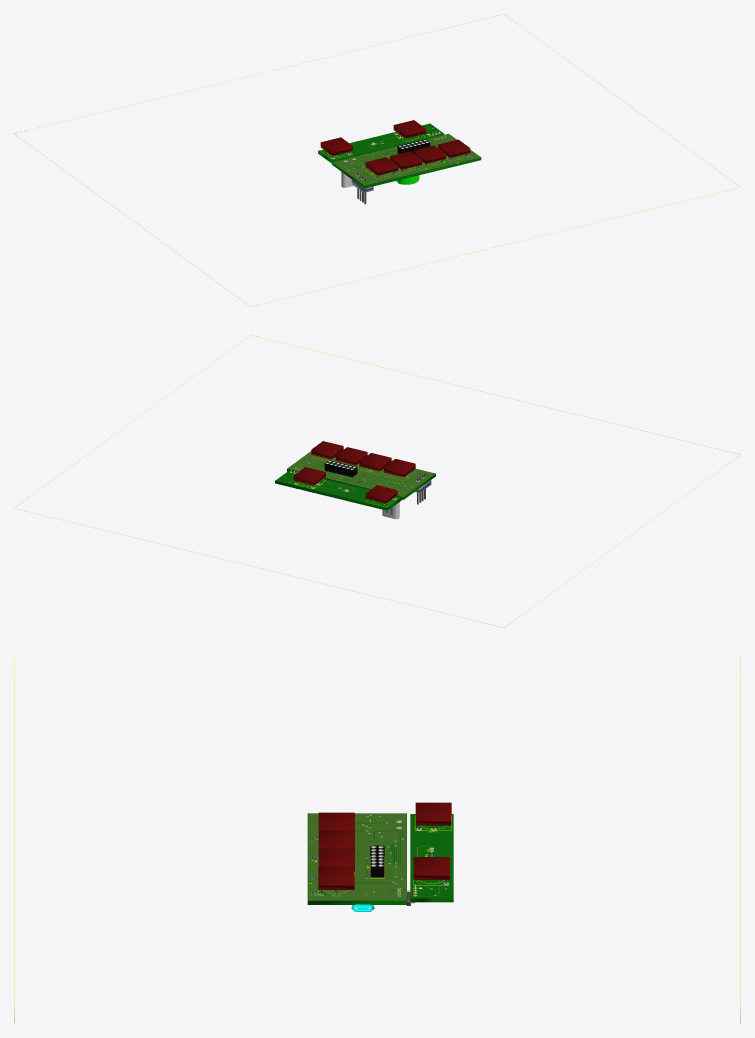
File: pcb.fbx
3 views of the same model, one above another, from view 1: azimuth 30°, elevation 25°; view 2: azimuth 150°, elevation 25°; view 3: azimuth 270°, elevation 25° (orthographic). The views are drawn at different scales.
Parts seen in each view (by area): view 1: O000071000, O000065000; view 2: O000071000, O000065000; view 3: O000071000, O000065000, O000023000, O00002C000, O00001A000, O000021000, O000015000, O000006000.
Boxes of the visible parts, <box> form: O000071000: <box>14,14,740,306</box>; O000065000: <box>318,134,481,188</box>; O000071000: <box>14,335,740,627</box>; O000065000: <box>275,460,435,510</box>; O000071000: <box>14,656,740,1023</box>; O000065000: <box>307,815,453,904</box>; O000023000: <box>415,802,451,825</box>; O00002C000: <box>318,867,354,889</box>; O00001A000: <box>413,857,449,879</box>; O000021000: <box>318,848,354,871</box>; O000015000: <box>318,830,354,848</box>; O000006000: <box>318,812,354,830</box>.
Size of the model in its own units: 77.5 by 5.06 by 64.8.
